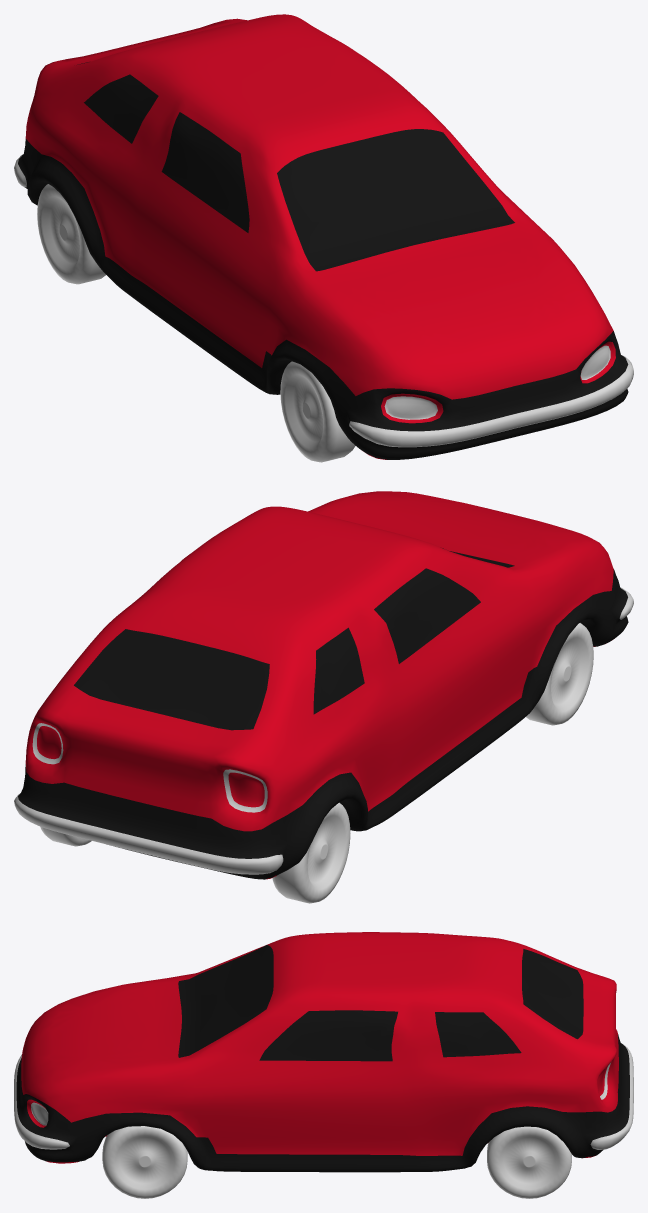
The model's file is vehicle-realistic-car.fbx.
3 renders of one model, top to bottom at view 1: azimuth 30°, elevation 25°; view 2: azimuth 150°, elevation 25°; view 3: azimuth 270°, elevation 25°, orthographic. The views are drawn at different scales.
Visible parts, largest first — view 1: CARRO, roda2, roda4; view 2: CARRO, roda4, roda2; view 3: CARRO, roda1, roda3.
Boxes of the visible parts, x1=… form: CARRO: x1=14, y1=14, x2=633, y2=459; roda2: x1=280, y1=361, x2=355, y2=462; roda4: x1=37, y1=184, x2=105, y2=284; CARRO: x1=14, y1=491, x2=633, y2=879; roda4: x1=272, y1=802, x2=350, y2=903; roda2: x1=526, y1=623, x2=593, y2=725; CARRO: x1=14, y1=932, x2=633, y2=1172; roda1: x1=102, y1=1126, x2=187, y2=1198; roda3: x1=487, y1=1126, x2=571, y2=1198.
Size of the model in its own units: 239 by 190 by 563.
